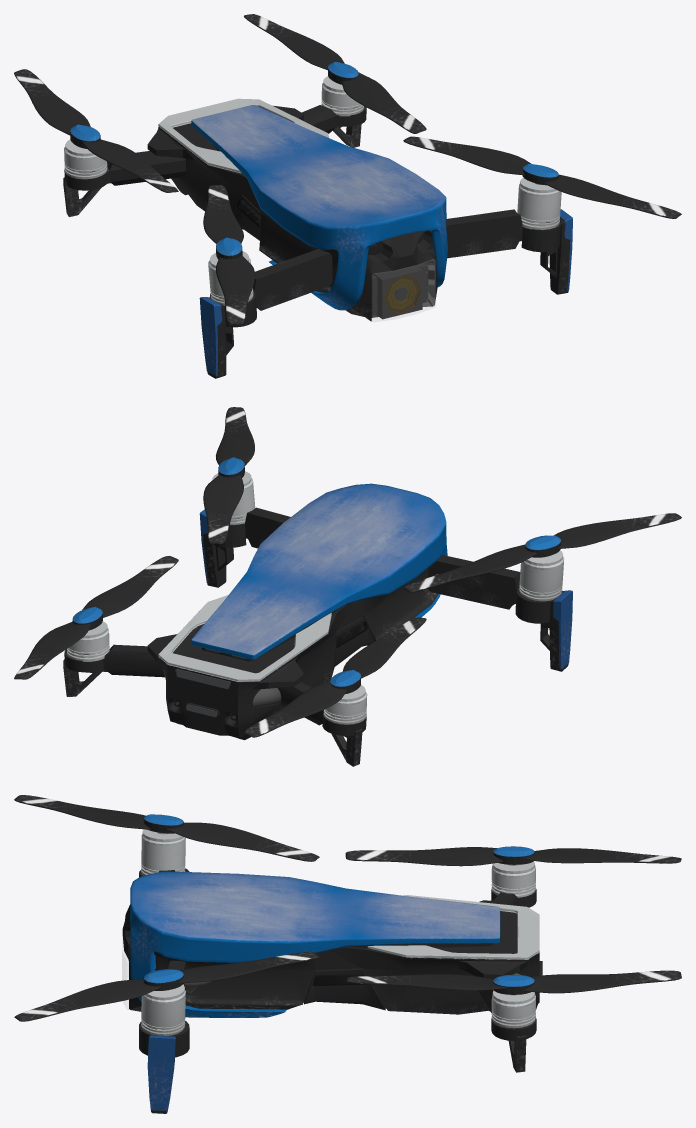
The picture shows the model from 3 angles, top to bottom: view 1: azimuth 30°, elevation 25°; view 2: azimuth 150°, elevation 25°; view 3: azimuth 270°, elevation 25°; orthographic projection. The views are drawn at different scales.
Parts seen in each view (by area): view 1: Top_Frame, Main_Body, FWing_Arm, Wing4, Wing, Wing2, polySurface3, Front_Stand, Wing3, polySurface1, Lid_Frame, Wing_Arm (+2 smaller); view 2: Top_Frame, Main_Body, FWing_Arm, Wing3, polySurface3, Wing2, Wing, Wing4, polySurface1, Front_Stand, Wing_Arm, Wing_Stand; view 3: Top_Frame, Main_Body, polySurface3, polySurface1, Wing, Wing2, Wing3, Wing4, Front_Stand, Wing_Arm, FWing_Arm, Wing_Stand.
Boxes of the visible parts, x1=… form: Top_Frame: x1=191, y1=105, x2=447, y2=310; Main_Body: x1=147, y1=98, x2=437, y2=321; FWing_Arm: x1=210, y1=209, x2=561, y2=327; Wing4: x1=215, y1=174, x2=681, y2=324; Wing: x1=14, y1=14, x2=344, y2=135; Wing2: x1=82, y1=72, x2=426, y2=192; polySurface3: x1=208, y1=164, x2=561, y2=305; Front_Stand: x1=199, y1=209, x2=572, y2=378; Wing3: x1=203, y1=136, x2=531, y2=243; polySurface1: x1=64, y1=62, x2=364, y2=179; Lid_Frame: x1=372, y1=259, x2=435, y2=321; Wing_Arm: x1=64, y1=105, x2=366, y2=190; Top_Frame: x1=191, y1=483, x2=447, y2=659; Main_Body: x1=147, y1=568, x2=438, y2=740; FWing_Arm: x1=213, y1=507, x2=551, y2=623; Wing3: x1=203, y1=474, x2=537, y2=592; polySurface3: x1=212, y1=457, x2=563, y2=601; Wing2: x1=82, y1=556, x2=426, y2=678; Wing: x1=14, y1=621, x2=347, y2=737; Wing4: x1=216, y1=407, x2=681, y2=548; polySurface1: x1=67, y1=607, x2=367, y2=724; Front_Stand: x1=199, y1=509, x2=572, y2=671; Wing_Arm: x1=64, y1=644, x2=366, y2=735; Wing_Stand: x1=63, y1=659, x2=362, y2=766; Top_Frame: x1=130, y1=871, x2=500, y2=1017; Main_Body: x1=122, y1=895, x2=542, y2=1014; polySurface3: x1=141, y1=814, x2=185, y2=1035; polySurface1: x1=491, y1=846, x2=535, y2=1028; Wing: x1=522, y1=848, x2=681, y2=993; Wing2: x1=345, y1=847, x2=508, y2=990; Wing3: x1=166, y1=822, x2=319, y2=983; Wing4: x1=14, y1=795, x2=161, y2=1021; Front_Stand: x1=147, y1=1035, x2=175, y2=1113; Wing_Arm: x1=474, y1=889, x2=536, y2=1040; FWing_Arm: x1=139, y1=868, x2=189, y2=1057; Wing_Stand: x1=508, y1=1035, x2=526, y2=1072.
Size of the model in its own units: 2.75 by 0.7365 by 3.43.
Materials: 2 (2 with a texture image).
